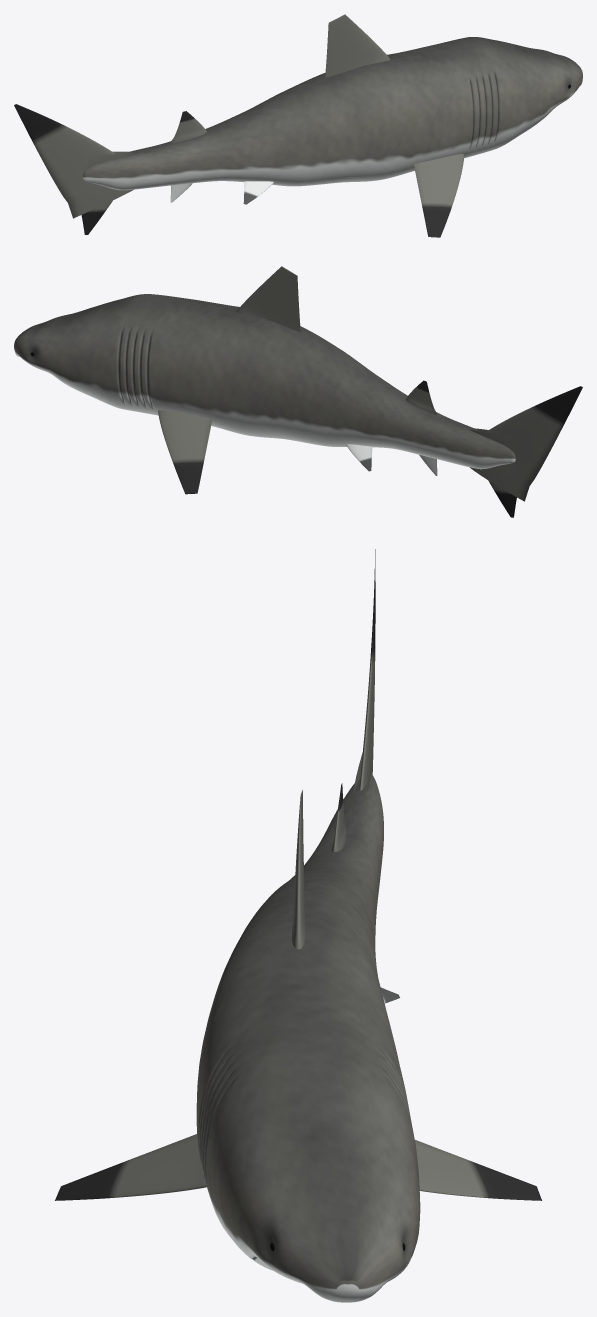
Rendered from grey_reef_shark.glb.
3 views of the same model, one above another, from view 1: azimuth 30°, elevation 25°; view 2: azimuth 150°, elevation 25°; view 3: azimuth 270°, elevation 25° (orthographic). The views are drawn at different scales.
Visible parts, largest first — view 1: grey_reef_shark_Body, grey_reef_shark_Fins; view 2: grey_reef_shark_Body, grey_reef_shark_Fins; view 3: grey_reef_shark_Body, grey_reef_shark_Fins.
Boxes of the visible parts, left/top/right/bottom form: grey_reef_shark_Body: left=83, top=37, right=582, bottom=190; grey_reef_shark_Fins: left=14, top=14, right=464, bottom=237; grey_reef_shark_Body: left=14, top=294, right=515, bottom=469; grey_reef_shark_Fins: left=158, top=266, right=582, bottom=517; grey_reef_shark_Body: left=196, top=774, right=420, bottom=1302; grey_reef_shark_Fins: left=55, top=549, right=541, bottom=1200.
Size of the model in its own units: 1.8 by 0.5738 by 0.6792.
3 materials, 1 textured.
